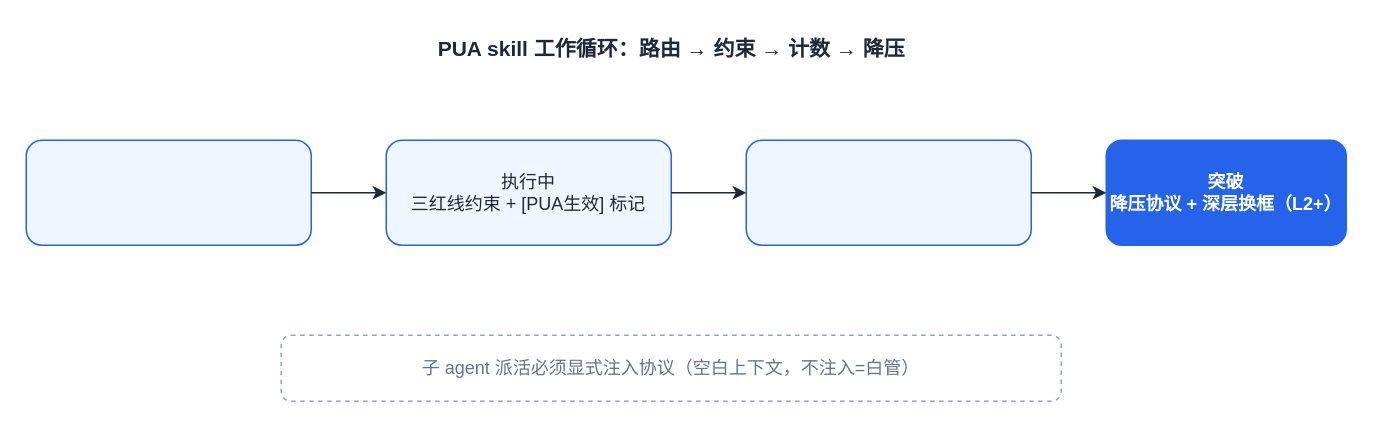
This 1373x428 diagram has some shape labels left out. The box of each missing label's shape, as (x1, y1, x2, y2) in pixels:
任务进来 方法论路由（15 味按任务类型选）: (25, 139, 311, 245)
失败 计数 hooks 持久化（压缩不丢）: (745, 139, 1031, 245)
